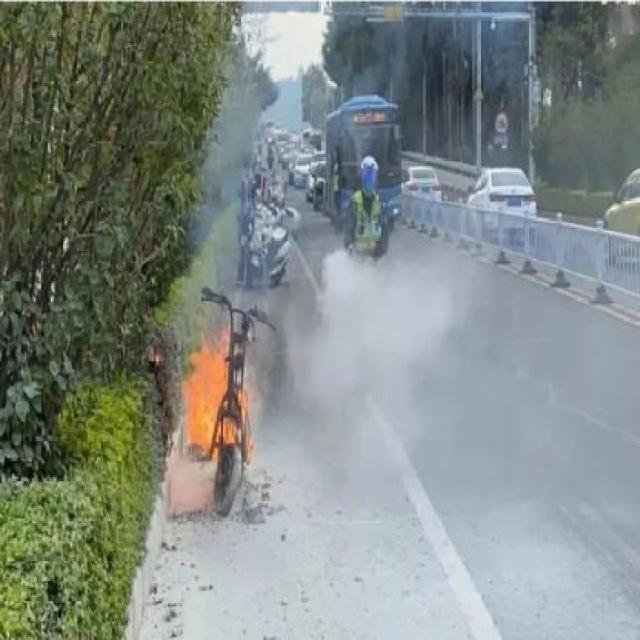Fire: (190, 343, 235, 445)
Smoke: (305, 254, 444, 451)
